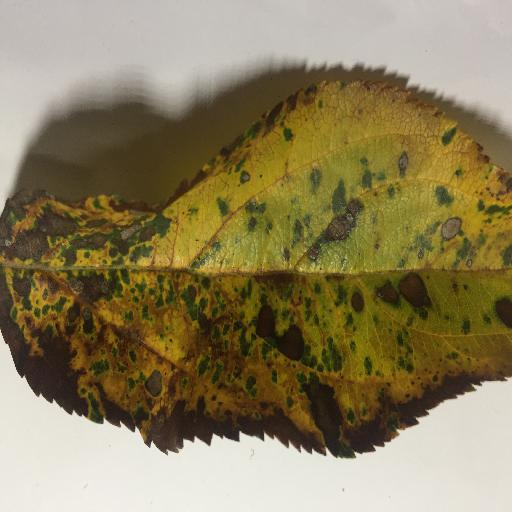Brown_Spot: (5, 64, 512, 476)
